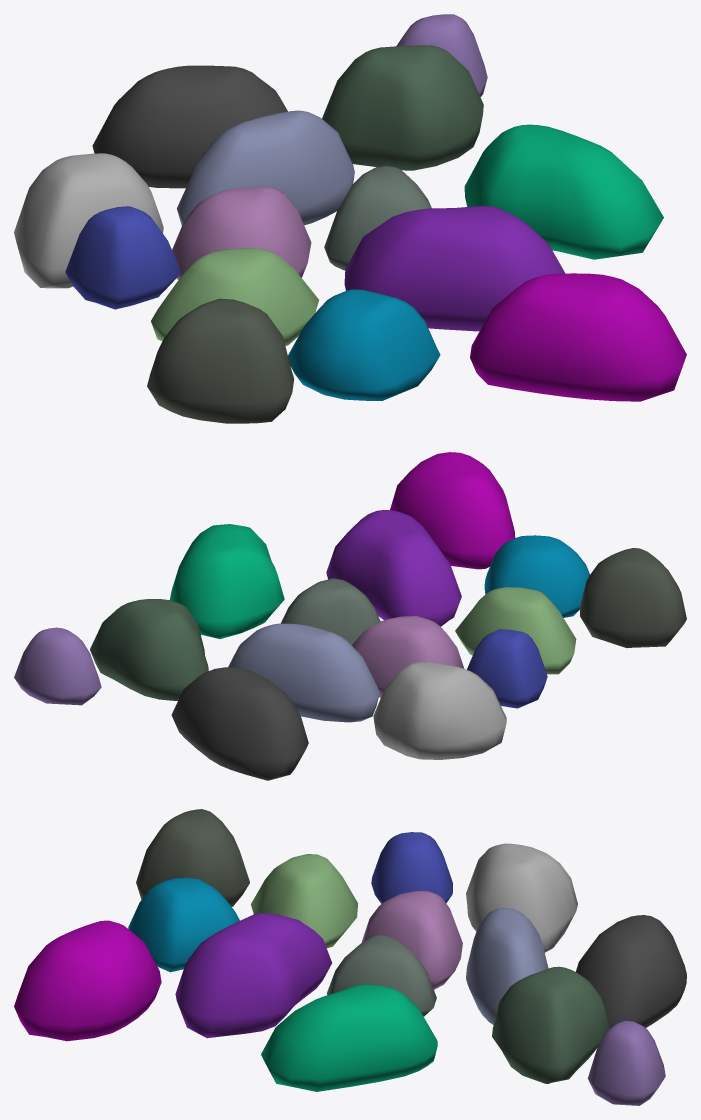
Rendered from Cobble-cluster.fbx.
3 renders of one model, top to bottom at view 1: azimuth 30°, elevation 25°; view 2: azimuth 150°, elevation 25°; view 3: azimuth 270°, elevation 25°, orthographic. The views are drawn at different scales.
Visible parts, largest first — view 1: Flag_02, Flag_13, Flag_01, Flag_06, Flag_04, Flag_08, Flag_03, Flag_10, Flag_16, Flag_15, Flag_14, Flag_11 (+2 smaller); view 2: Flag_08, Flag_16, Flag_13, Flag_10, Flag_02, Flag_01, Flag_06, Flag_04, Flag_14, Flag_03, Flag_05, Flag_11 (+2 smaller); view 3: Flag_13, Flag_01, Flag_02, Flag_06, Flag_08, Flag_16, Flag_04, Flag_03, Flag_14, Flag_10, Flag_11, Flag_05 (+2 smaller).
Part boxes in pixels (x1,y1,x2,y2): Flag_02: [470, 273, 686, 401]; Flag_13: [344, 206, 565, 331]; Flag_01: [464, 124, 663, 259]; Flag_06: [322, 45, 483, 170]; Flag_04: [147, 298, 293, 423]; Flag_08: [92, 65, 287, 188]; Flag_03: [288, 289, 440, 400]; Flag_10: [177, 110, 354, 225]; Flag_16: [14, 153, 163, 288]; Flag_15: [65, 206, 181, 309]; Flag_14: [151, 248, 318, 345]; Flag_11: [172, 186, 311, 279]; Flag_08: [171, 667, 308, 780]; Flag_16: [373, 662, 506, 759]; Flag_13: [326, 510, 461, 626]; Flag_10: [228, 623, 379, 722]; Flag_02: [390, 452, 515, 569]; Flag_01: [170, 524, 284, 638]; Flag_06: [90, 599, 208, 700]; Flag_04: [580, 548, 686, 647]; Flag_14: [455, 587, 576, 674]; Flag_03: [484, 535, 589, 617]; Flag_05: [14, 627, 101, 705]; Flag_11: [352, 616, 464, 697]; Flag_13: [175, 913, 331, 1038]; Flag_01: [261, 984, 437, 1091]; Flag_02: [14, 920, 161, 1041]; Flag_06: [492, 966, 609, 1083]; Flag_08: [576, 915, 686, 1028]; Flag_16: [466, 843, 577, 952]; Flag_04: [136, 809, 249, 906]; Flag_03: [128, 877, 239, 972]; Flag_14: [251, 854, 357, 948]; Flag_10: [466, 908, 548, 1024]; Flag_11: [361, 891, 462, 989]; Flag_05: [587, 1020, 665, 1105].
Size of the model in its own units: 206 by 40.25 by 247.
